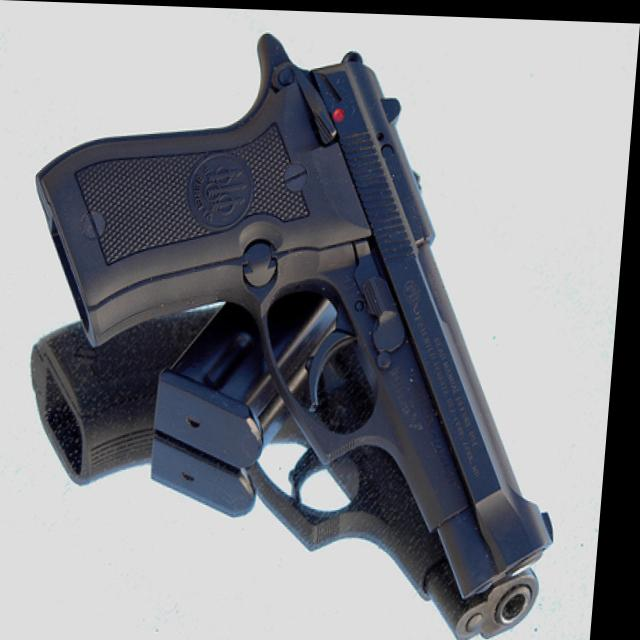handgun: (5, 16, 590, 635)
